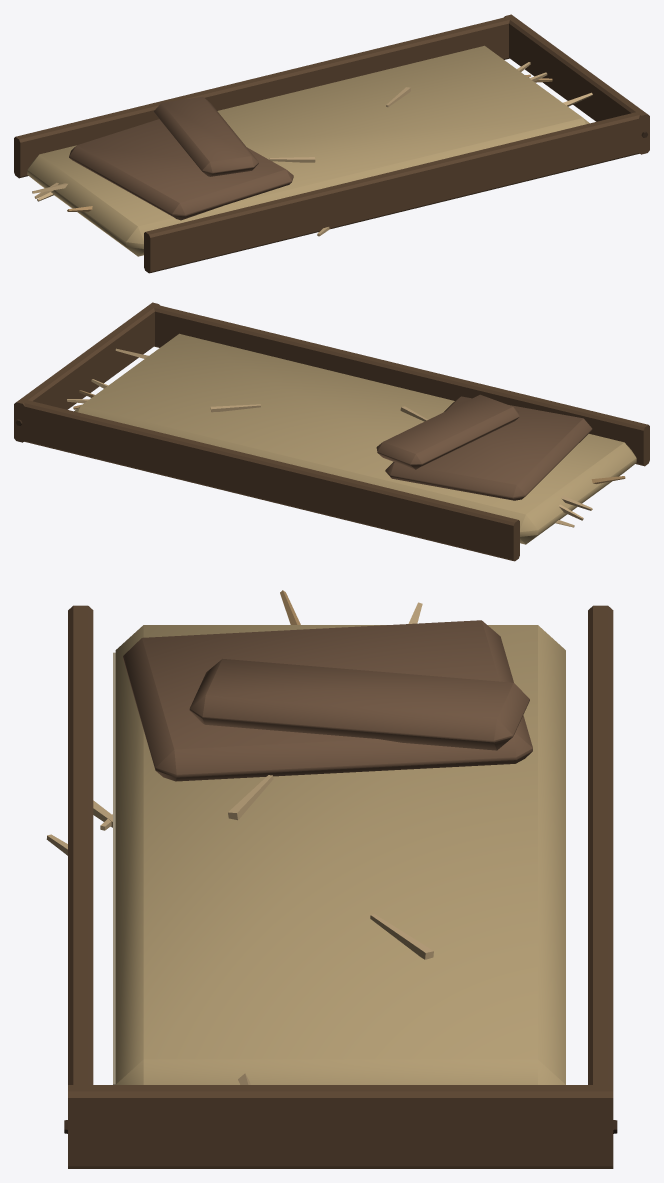
Rendered from SM_LPD_Furn_BunkStraw_01.fbx.
The picture shows the model from 3 angles, top to bottom: view 1: azimuth 30°, elevation 25°; view 2: azimuth 150°, elevation 25°; view 3: azimuth 270°, elevation 25°; orthographic projection. The views are drawn at different scales.
Parts seen in each view (by area): view 1: SM_LPD_Furn_BunkStraw_01; view 2: SM_LPD_Furn_BunkStraw_01; view 3: SM_LPD_Furn_BunkStraw_01.
Part boxes in pixels (left/top/right/bottom): SM_LPD_Furn_BunkStraw_01: left=14, top=14, right=649, bottom=273; SM_LPD_Furn_BunkStraw_01: left=14, top=302, right=649, bottom=561; SM_LPD_Furn_BunkStraw_01: left=46, top=590, right=617, bottom=1168.
Size of the model in its own units: 1.93 by 0.2095 by 0.8996.
